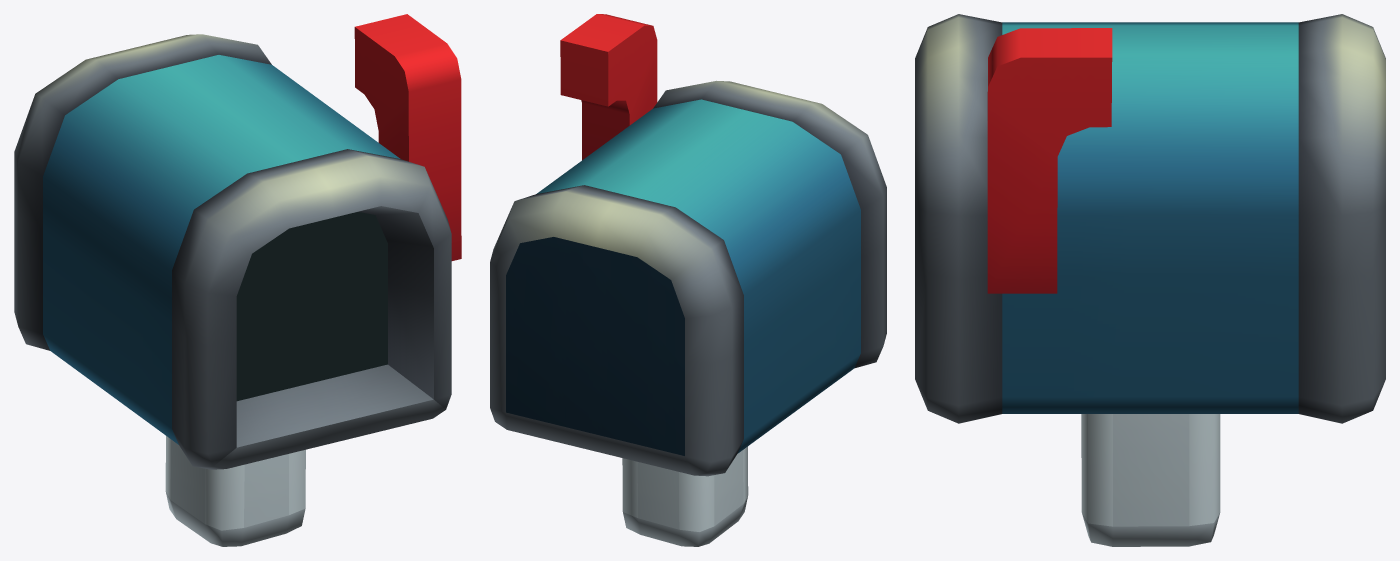
The model's file is mail_box_LOD_setup.fbx.
The picture shows the model from 3 angles, left to right: view 1: azimuth 30°, elevation 25°; view 2: azimuth 150°, elevation 25°; view 3: azimuth 270°, elevation 25°; orthographic projection. The views are drawn at different scales.
Visible parts, largest first — view 1: mail_box_LOD0; view 2: mail_box_LOD0; view 3: mail_box_LOD0.
Part boxes in pixels (x1,y1,x2,y2): mail_box_LOD0: (14,14,461,546); mail_box_LOD0: (490,14,886,546); mail_box_LOD0: (915,14,1385,546).
Size of what is drawn, in the model's own units: 75.12 by 121 by 92.08.
